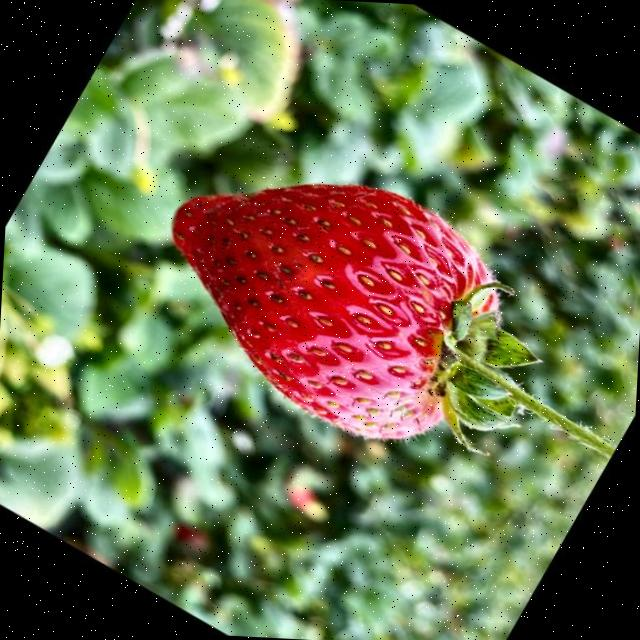strawberry: (172, 185, 612, 455)
